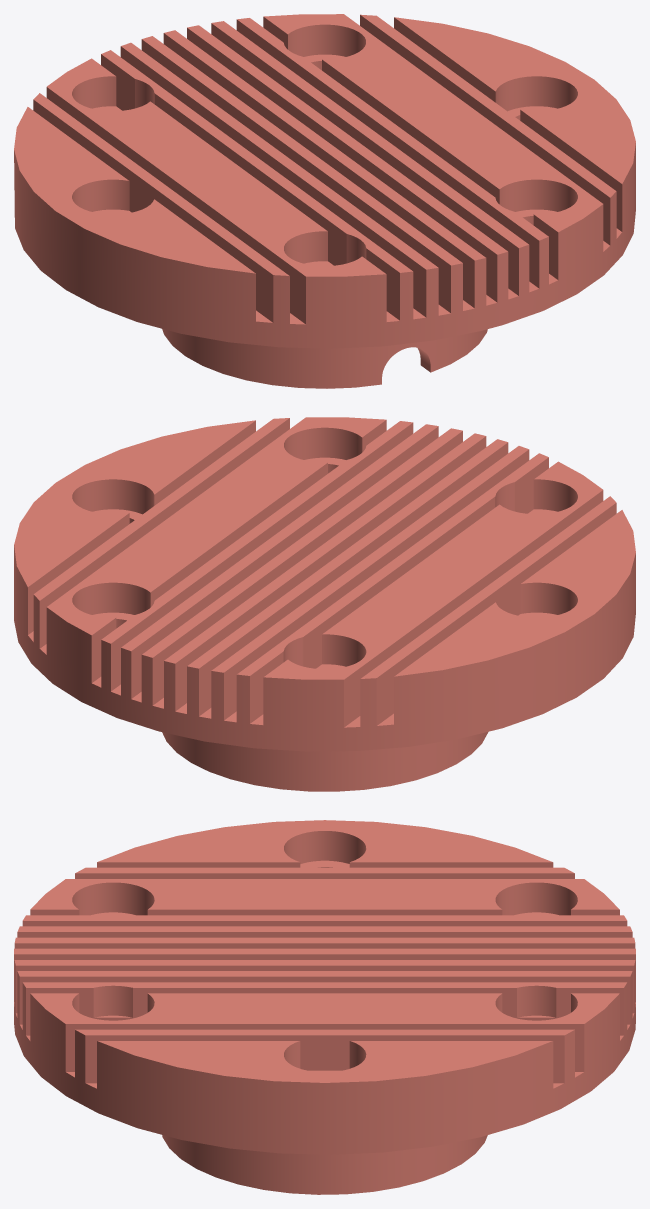
Rendered from ganggai.glb.
3 renders of one model, top to bottom at view 1: azimuth 30°, elevation 25°; view 2: azimuth 150°, elevation 25°; view 3: azimuth 270°, elevation 25°, orthographic.
Visible parts, largest first — view 1: Cylinder Cap-Rev. B; view 2: Cylinder Cap-Rev. B; view 3: Cylinder Cap-Rev. B.
Part boxes in pixels (x1,y1,x2,y2): Cylinder Cap-Rev. B: [14, 14, 635, 388]; Cylinder Cap-Rev. B: [14, 417, 635, 791]; Cylinder Cap-Rev. B: [14, 820, 635, 1194].
Bounding box in the file's own units: 30 × 9.24 × 30.
